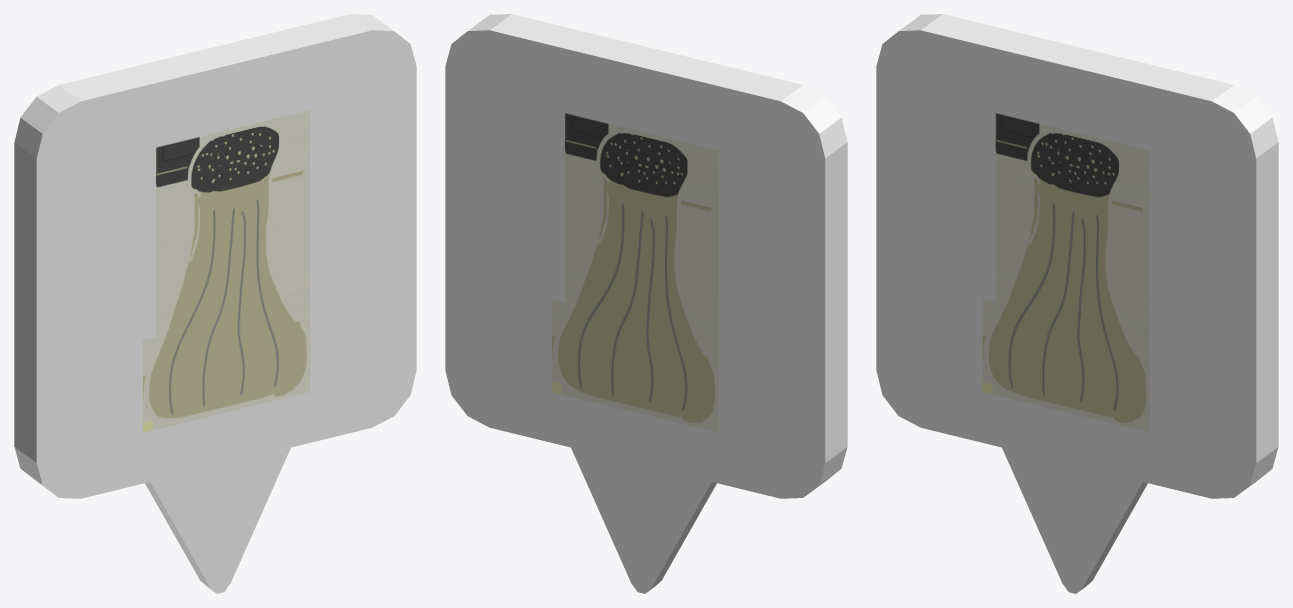
File: prodpin-salz.fbx
The picture shows the model from 3 angles, left to right: view 1: azimuth 30°, elevation 25°; view 2: azimuth 150°, elevation 25°; view 3: azimuth 330°, elevation 25°; orthographic projection.
Visible parts, largest first — view 1: ProdPIn; view 2: ProdPIn; view 3: ProdPIn.
Part boxes in pixels (x1,y1,x2,y2): ProdPIn: (14,14,416,593); ProdPIn: (445,14,847,593); ProdPIn: (876,14,1278,593).
Bounding box in the file's own units: 200 × 268 × 20.35.
Materials: 1 (1 with a texture image).
